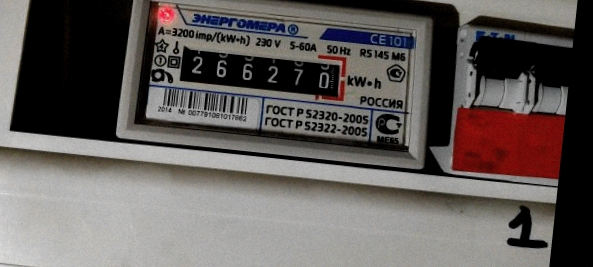0: (315, 68, 331, 90)
2: (188, 53, 204, 75), (265, 63, 280, 84)
6: (213, 56, 227, 79), (239, 60, 254, 80)
7: (291, 66, 303, 86)
screen: (166, 34, 354, 108)
